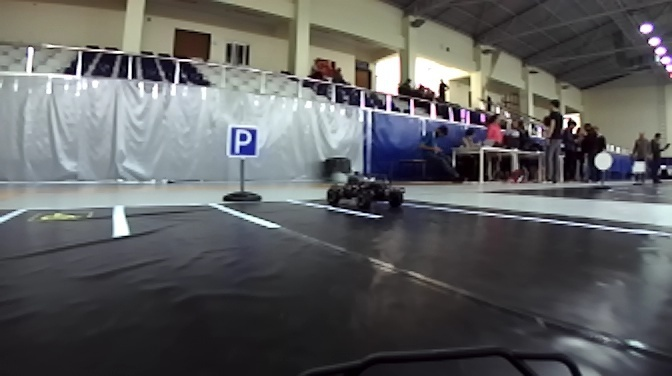park: (227, 123, 262, 160)
